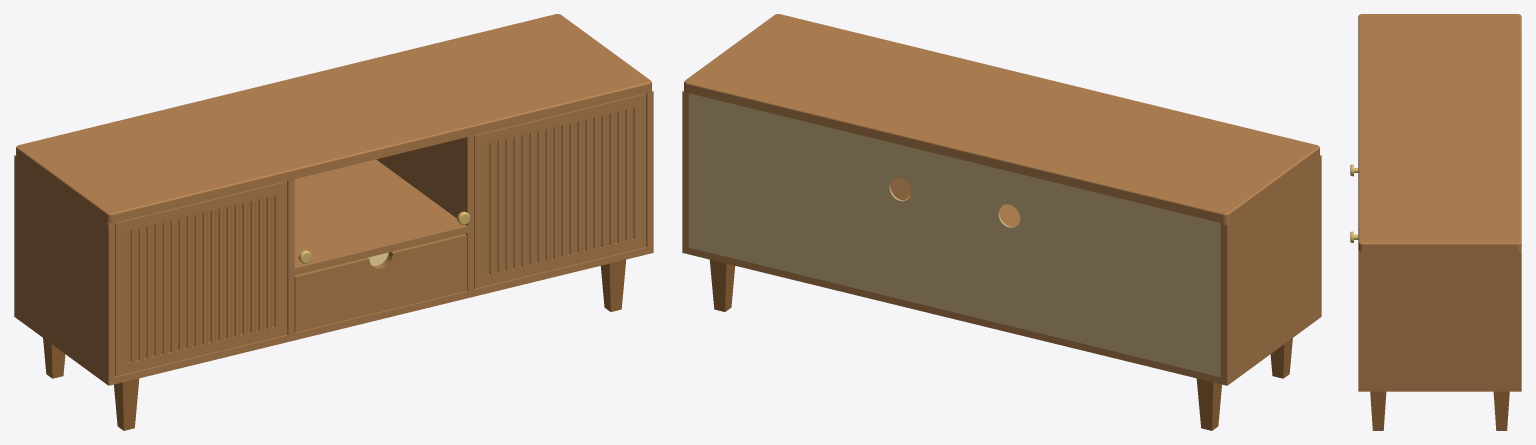
Rendered from meuble-tv.glb.
3 renders of one model, left to right at view 1: azimuth 30°, elevation 25°; view 2: azimuth 150°, elevation 25°; view 3: azimuth 270°, elevation 25°, orthographic. The views are drawn at different scales.
Visible parts, largest first — view 1: meuble_tv (×2); view 2: meuble_tv (×3); view 3: meuble_tv (×2).
Part boxes in pixels (x1,y1,x2,y2): meuble_tv (×2): [14, 14, 653, 430]; meuble_tv (×3): [682, 14, 1321, 430]; meuble_tv (×2): [1358, 14, 1521, 430].
Bounding box in the file's own units: 1.5 × 0.6 × 0.472.
